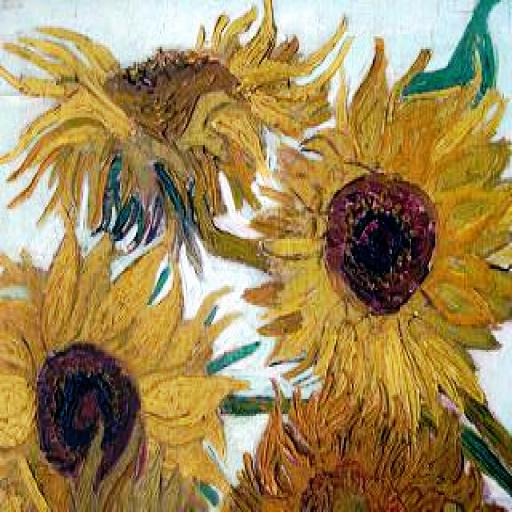sunflower: (256, 45, 512, 422), (6, 15, 325, 241)
